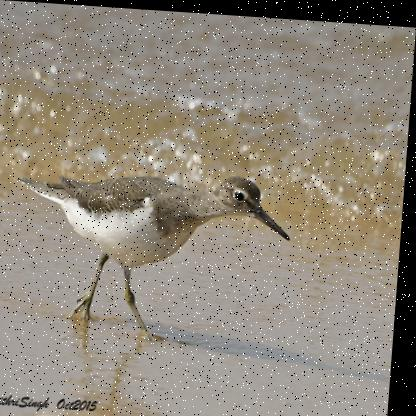Burung: (12, 152, 296, 342)
